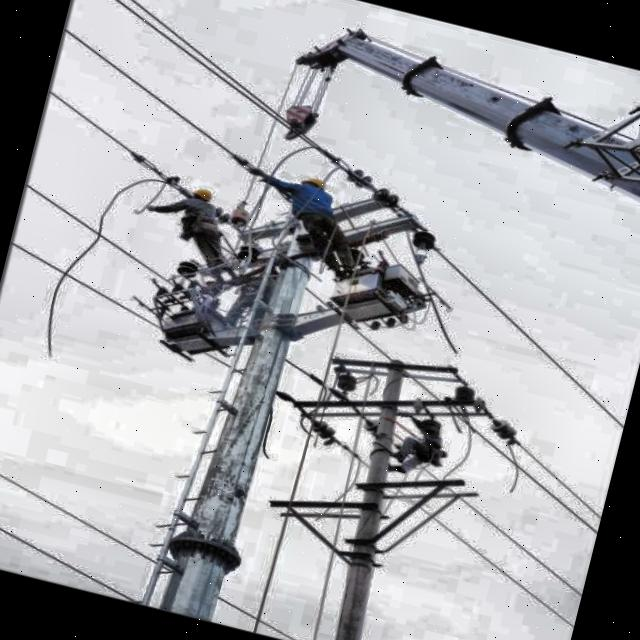helmet: (298, 170, 330, 202), (184, 182, 215, 210)
